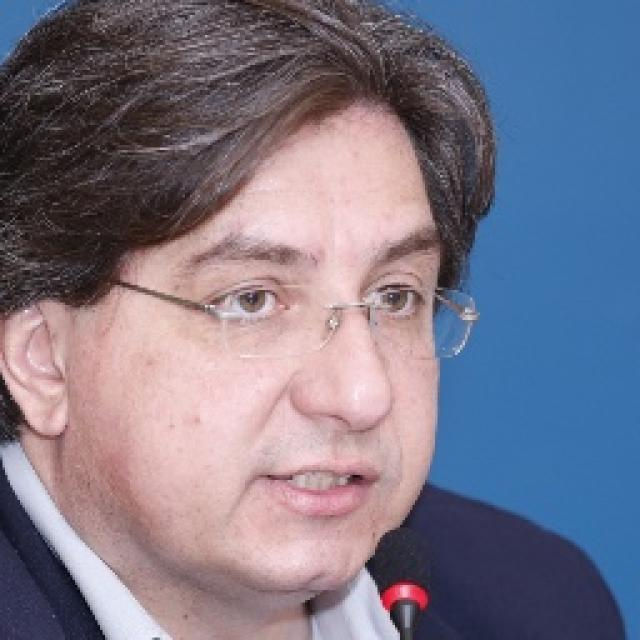earlobe: (29, 378, 72, 438)
eye: (206, 282, 288, 319), (369, 282, 428, 321)
nose: (292, 404, 413, 473)
wholeear: (0, 295, 70, 437)
